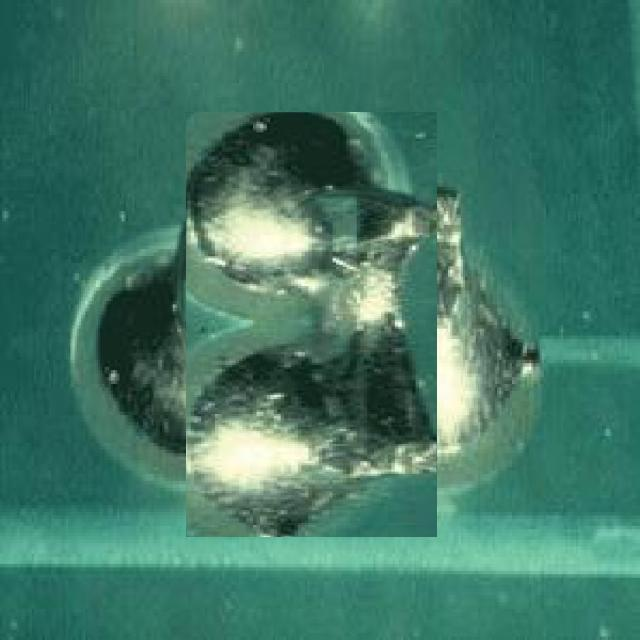Short_circuit: (185, 112, 437, 537)
